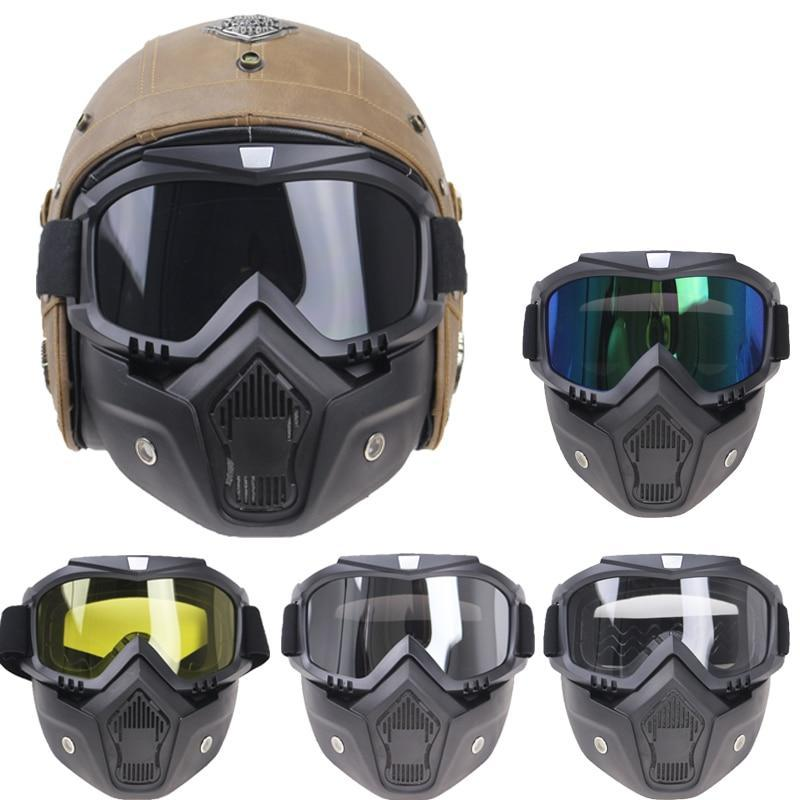with_helmet: (48, 13, 479, 538), (514, 250, 792, 524), (10, 552, 281, 795), (547, 549, 797, 800), (293, 551, 541, 799)
